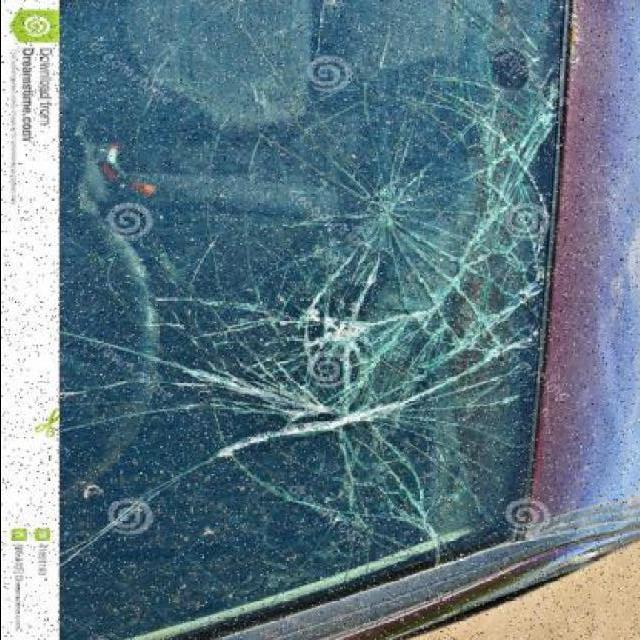Front-Windscreen-Damage: (73, 0, 586, 612)
